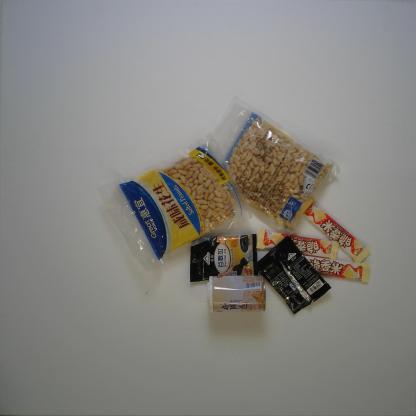Canned Food: (206, 275, 266, 314)
Chocolate: (297, 197, 371, 264), (254, 229, 340, 261), (306, 257, 371, 284)
Dried Fruit: (94, 136, 253, 273), (211, 94, 340, 236)
Instant Drink: (255, 235, 332, 315), (189, 233, 259, 283)
